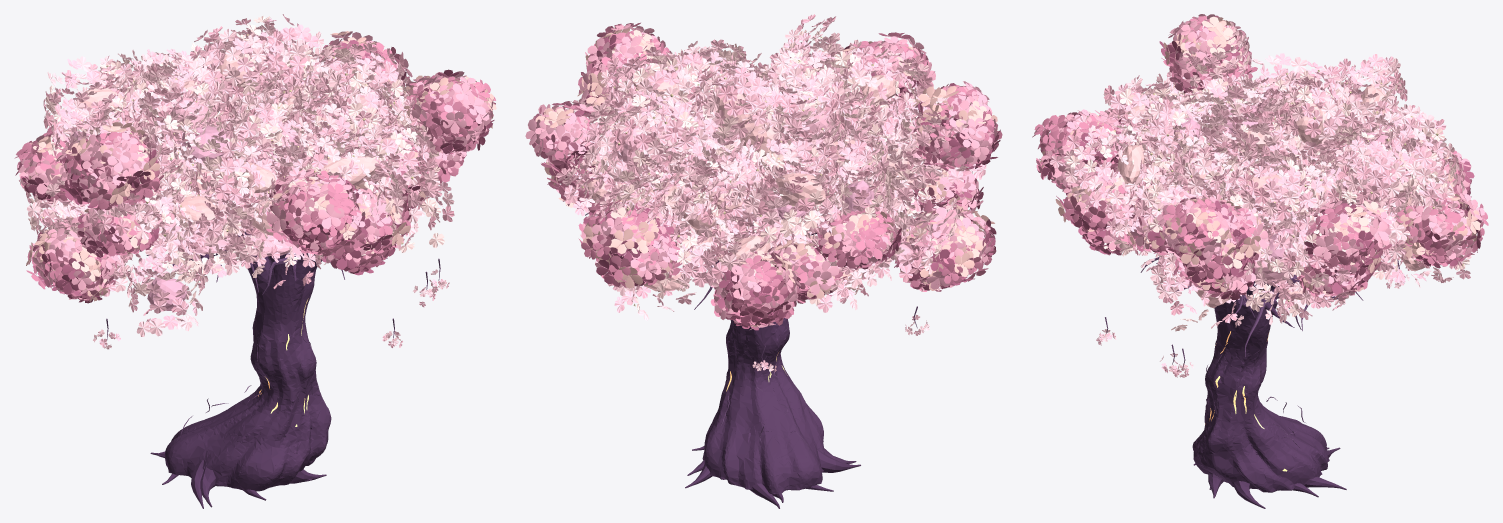
Rendered from sakura_hero_r17b.glb.
3 renders of one model, left to right at view 1: azimuth 30°, elevation 25°; view 2: azimuth 150°, elevation 25°; view 3: azimuth 270°, elevation 25°, orthographic. The views are drawn at different scales.
Parts seen in each view (by area): view 1: Sakura_petal_pink, R17b_outer_quality, Sakura_petal_blush, Trunk_bark_plumblack, Sakura_petal_warm_rose, Sakura_petal_cream, R17b_skirt_quality, R17b_bridge_quality, Canopy_peach, Canopy_depth_rose, Canopy_rose, Branches_plum; view 2: R17b_outer_quality, Sakura_petal_pink, Sakura_petal_blush, Trunk_bark_plumblack, Sakura_petal_warm_rose, Sakura_petal_cream, R17b_bridge_quality, Canopy_peach, R17b_skirt_quality, Canopy_rose, Canopy_depth_rose; view 3: Sakura_petal_pink, Sakura_petal_blush, R17b_outer_quality, Trunk_bark_plumblack, Sakura_petal_warm_rose, Sakura_petal_cream, R17b_bridge_quality, Canopy_peach, R17b_skirt_quality, Canopy_depth_rose, Branches_plum, Canopy_rose.
Part boxes in pixels (bbox=[...]): Sakura_petal_pink: bbox=[19, 14, 451, 347]; R17b_outer_quality: bbox=[14, 31, 496, 295]; Sakura_petal_blush: bbox=[26, 23, 454, 349]; Trunk_bark_plumblack: bbox=[150, 232, 331, 508]; Sakura_petal_warm_rose: bbox=[31, 18, 454, 329]; Sakura_petal_cream: bbox=[28, 15, 453, 306]; R17b_skirt_quality: bbox=[61, 145, 466, 303]; R17b_bridge_quality: bbox=[55, 75, 466, 279]; Canopy_peach: bbox=[64, 54, 412, 238]; Canopy_depth_rose: bbox=[72, 81, 299, 310]; Canopy_rose: bbox=[57, 51, 393, 256]; Branches_plum: bbox=[106, 229, 440, 437]; R17b_outer_quality: bbox=[525, 22, 1002, 326]; Sakura_petal_pink: bbox=[546, 19, 986, 372]; Sakura_petal_blush: bbox=[553, 22, 969, 371]; Trunk_bark_plumblack: bbox=[685, 231, 860, 508]; Sakura_petal_warm_rose: bbox=[555, 14, 971, 299]; Sakura_petal_cream: bbox=[542, 28, 972, 312]; R17b_bridge_quality: bbox=[561, 41, 980, 303]; Canopy_peach: bbox=[585, 64, 937, 291]; R17b_skirt_quality: bbox=[556, 167, 983, 330]; Canopy_rose: bbox=[614, 107, 932, 256]; Canopy_depth_rose: bbox=[715, 72, 874, 219]; Sakura_petal_pink: bbox=[1049, 29, 1470, 377]; Sakura_petal_blush: bbox=[1063, 22, 1475, 377]; R17b_outer_quality: bbox=[1032, 14, 1488, 286]; Trunk_bark_plumblack: bbox=[1156, 263, 1346, 508]; Sakura_petal_warm_rose: bbox=[1066, 19, 1464, 323]; Sakura_petal_cream: bbox=[1066, 42, 1469, 331]; R17b_bridge_quality: bbox=[1061, 43, 1466, 282]; Canopy_peach: bbox=[1105, 59, 1425, 308]; R17b_skirt_quality: bbox=[1078, 200, 1390, 300]; Canopy_depth_rose: bbox=[1174, 104, 1394, 259]; Branches_plum: bbox=[1105, 257, 1399, 448]; Canopy_rose: bbox=[1143, 87, 1383, 279].
Size of the model in its own units: 28.67 by 27 by 27.84.
